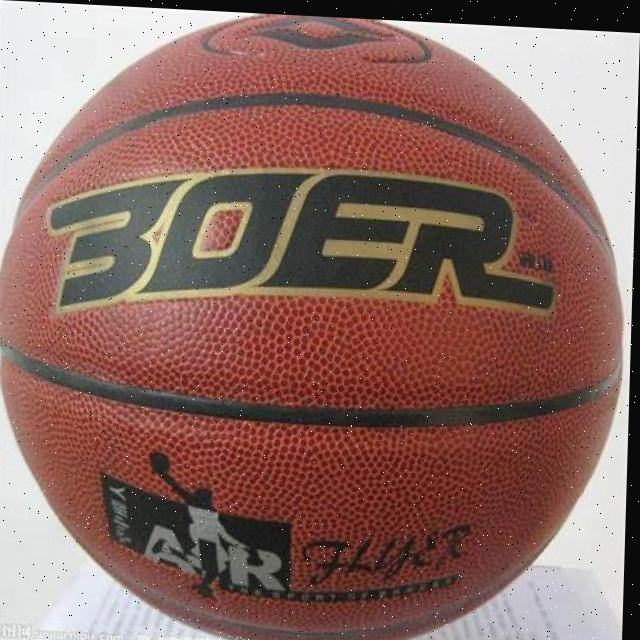Basketball: (0, 1, 635, 640)
